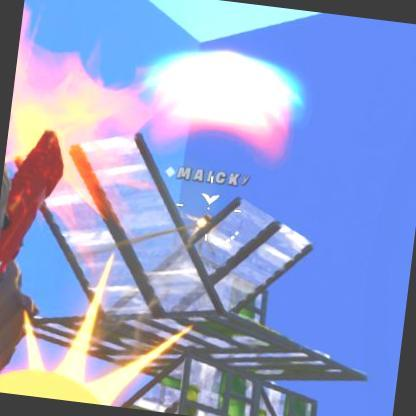person: (198, 213, 215, 248)
